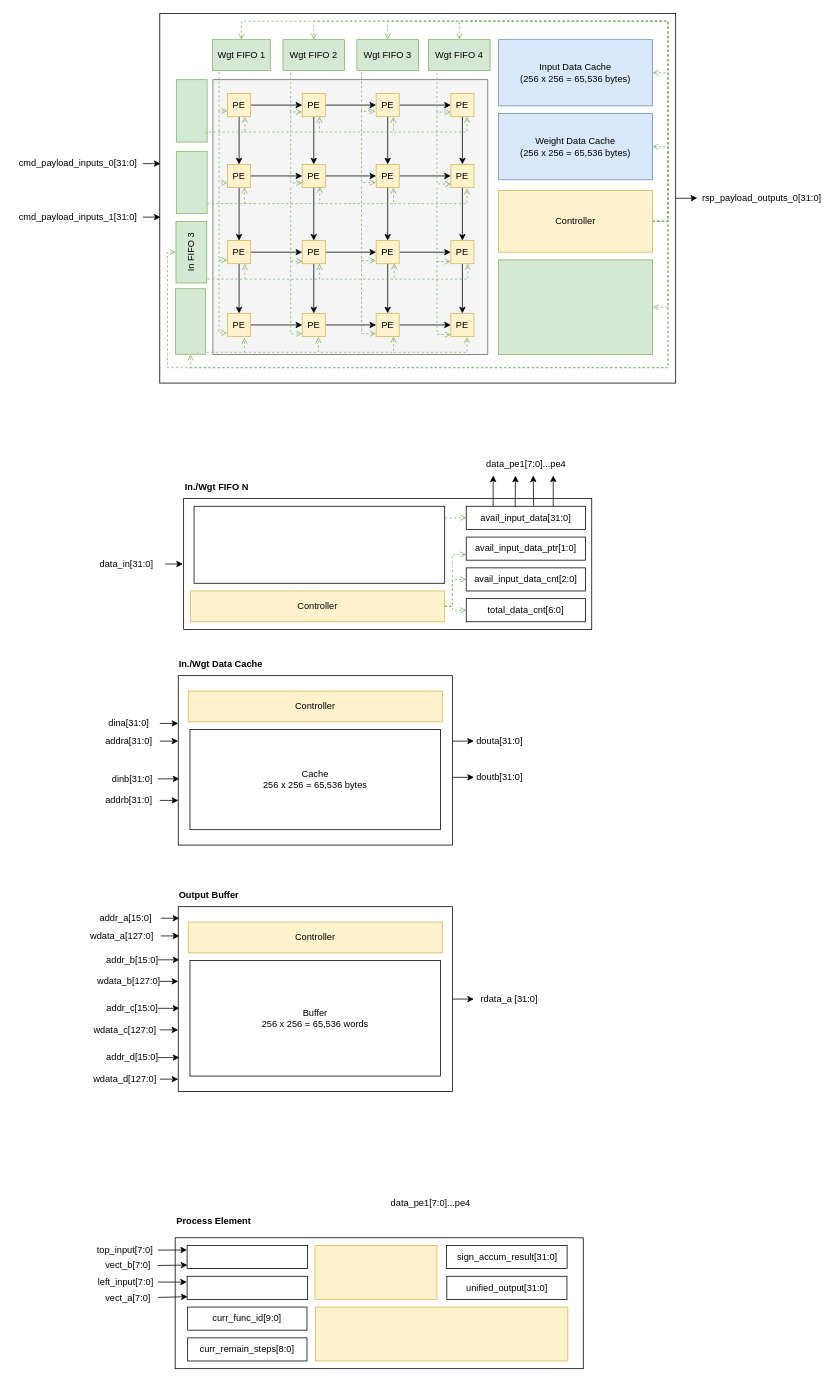
The diagram is 839 pixels wide and 1382 high, and some of its shapes have lost their labels. The shapes that lost their labels are listed below. From the top down, each one's centre as x and y in pixels, then its label:
At [191,110]: "In FIFO 1".
At [191,182]: "In FIFO 2".
At [190,321]: "In FIFO 4".
At [575,307]: "Output Buffer (256 x 256 = 65,536 words)".
At [319,544]: "Buffer (256 bytes)".
At [247,1257]: "top_input_reg[7:0]".
At [375,1272]: "ALU (MatMul, MatBinSum, Vect_div)".
At [247,1287]: "left_input_reg[7:0]".
At [441,1333]: "Controller/Scheduler".
